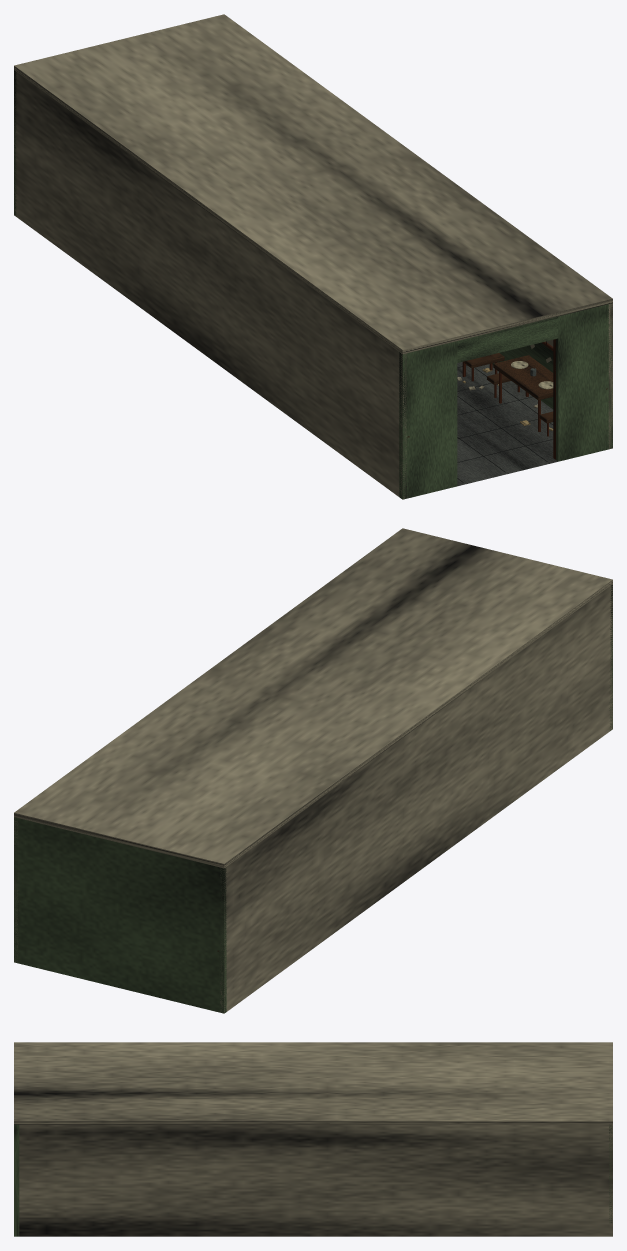
File: dining.glb
The picture shows the model from 3 angles, top to bottom: view 1: azimuth 30°, elevation 25°; view 2: azimuth 150°, elevation 25°; view 3: azimuth 270°, elevation 25°; orthographic projection. The views are drawn at different scales.
Parts seen in each view (by area): view 1: static-plaster, static-paint, static-stone, static-wood, static-rust; view 2: static-plaster, static-paint; view 3: static-plaster, static-paint.
Part boxes in pixels (bbox=[...]): static-plaster: bbox=[14, 14, 612, 499]; static-paint: bbox=[14, 70, 612, 499]; static-stone: bbox=[457, 362, 557, 486]; static-wood: bbox=[464, 353, 553, 423]; static-rust: bbox=[407, 339, 607, 459]; static-plaster: bbox=[14, 528, 612, 1013]; static-paint: bbox=[14, 584, 612, 1013]; static-plaster: bbox=[14, 1042, 612, 1236]; static-paint: bbox=[14, 1124, 612, 1236].
Bounding box in the file's own units: 5 × 3.4 × 16.
Materials: 14 (10 with a texture image).
